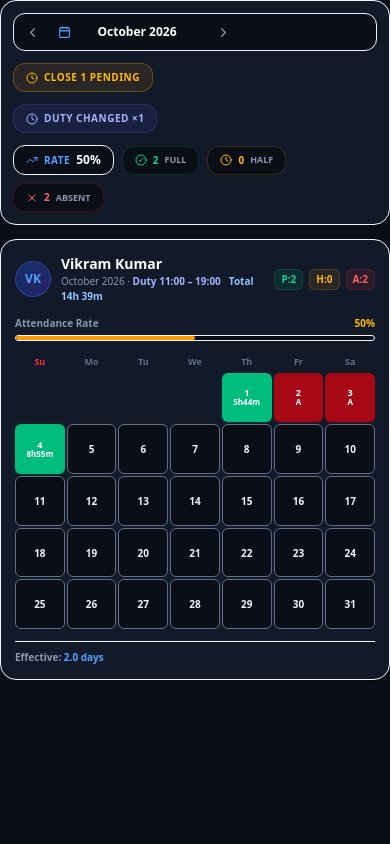
Scenario: MonthlyReport compact cells + detail tooltip › §9: tooltip Duty = current/DB duty + 'us din' note jab day purani duty par ho
The width and height of the screenshot is (390, 844).
Click the button named "1 Present" at (247, 397), box [222,372,272,422]
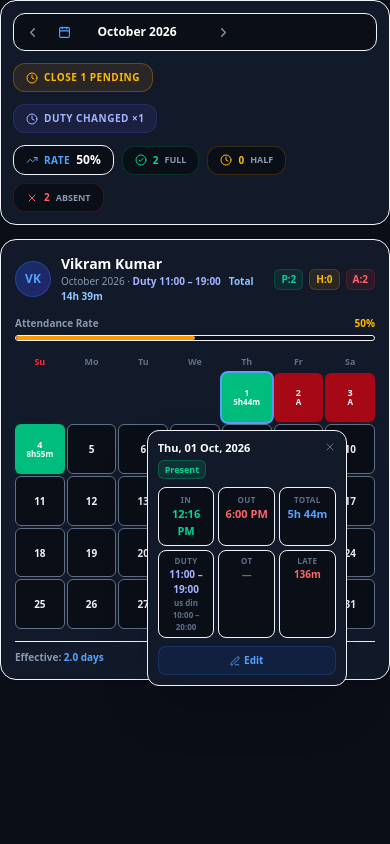
Check: the element with test id "day-tip" shows "11:00 – 19:00", box [169,568,203,596]
Check: the element with test id "day-tip" shows "us din 10:00 – 20:00", box [173,598,199,632]
